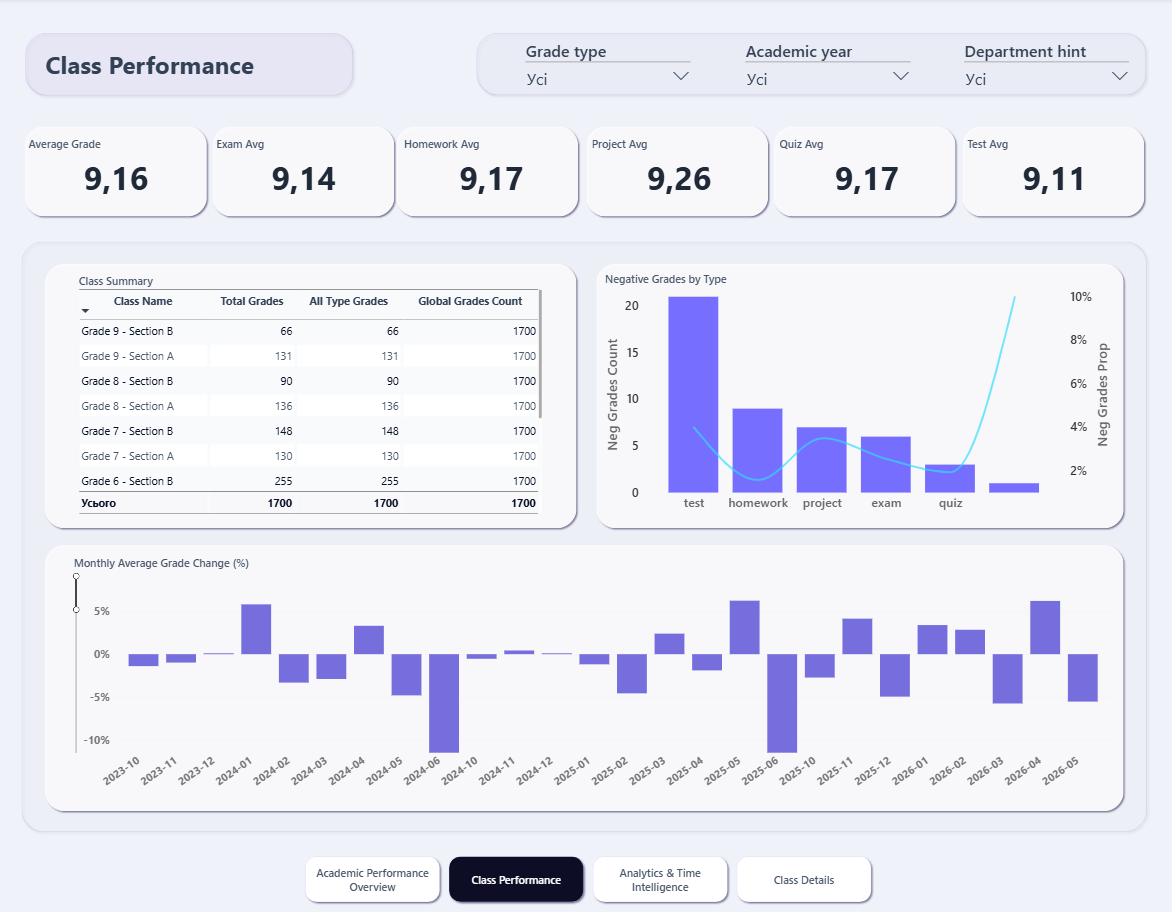

What the dashboard file says about the page in this screenshot:
{"tool":"powerbi","page":{"name":"Class Performance","canvas":[2925,2280],"ordinal":1},"visuals":[{"type":"shape","box":[1179.1,77.6,1680,172.9],"z":0,"group":"g2"},{"type":"group","id":"g1","title":"Група 1","box":[60,312.5,2792.3,240],"z":0,"group":"g3"},{"type":"shape","title":"Homework Average Grade","box":[60,312.5,467.3,240],"z":0,"group":"g1"},{"type":"shape","box":[49.6,595.8,2811.2,1483.2],"z":0},{"type":"shape","box":[59,77.6,831.6,173.8],"z":1000},{"type":"slicer","fields":{"Values":["grades.grade_type"]},"box":[1298.1,100,434.5,151],"z":1000,"group":"g2"},{"type":"cardVisual","fields":{"Data":["_Measures.Average Grade","_Measures.Exam Average Grade","_Measures.Homework Average Grade","_Measures.Project Average Grade","_Measures.Quiz Average Grade","_Measures.Test Average Grade"]},"box":[61.1,286.7,2798.9,270],"z":1000,"group":"g3"},{"type":"shape","title":"Homework Average Grade","box":[526.5,312.5,467.3,240],"z":1000,"group":"g1"},{"type":"group","id":"g2","title":"Група 3","box":[1179.1,77.6,1681.8,173.8],"z":2000},{"type":"slicer","fields":{"Values":["periods.academic_year"]},"box":[1842.7,100,434.5,151],"z":2000,"group":"g2"},{"type":"shape","title":"Homework Average Grade","box":[983,312.5,467.3,240],"z":2000,"group":"g1"},{"type":"slicer","fields":{"Values":["subjects.department_hint"]},"box":[2387.3,100,434.5,151],"z":3000,"group":"g2"},{"type":"group","id":"g3","title":"Група 2","box":[60,286.7,2800,270],"z":3000},{"type":"shape","title":"Homework Average Grade","box":[1452.8,312.5,467.3,240],"z":3000,"group":"g1"},{"type":"shape","title":"Homework Average Grade","box":[1919.3,312.5,467.3,240],"z":4000,"group":"g1"},{"type":"pageNavigator","box":[753.3,2123.3,1424,130],"z":4000},{"type":"shape","title":"Homework Average Grade","box":[2385.8,312.5,467.3,240],"z":5000,"group":"g1"},{"type":"group","id":"g4","title":"Група 4","box":[109.9,652.6,1335.1,672.5],"z":5000},{"type":"shape","title":"Homework Average Grade","box":[109.9,652.6,1335.1,672.5],"z":6000,"group":"g4"},{"type":"group","id":"g5","title":"Група 5","box":[1478.3,652.6,1325.1,672.5],"z":6000},{"type":"shape","title":"Homework Average Grade","box":[1478.3,652.6,1325.1,672.5],"z":7000,"group":"g5"},{"type":"group","id":"g6","title":"Група 6","box":[108.6,1349.8,2693.3,676.4],"z":7000},{"type":"shape","title":"Homework Average Grade","box":[108.6,1349.8,2693.3,676.4],"z":8000,"group":"g6"},{"type":"tableEx","title":"Class Summary","fields":{"Values":["classes.class_name","_Measures.Total Grades","_Measures.All Type Grades","_Measures.Global Grades Count"]},"box":[196.7,683.4,1160,603.3],"z":9000,"group":"g4"},{"type":"lineClusteredColumnComboChart","title":"Negative Grades by Type","fields":{"Y":["_Measures.Neg Grades Count"],"Category":["grades.grade_type"],"Y2":["_Measures.Neg Grades Prop"]},"box":[1503.4,680,1270,603.3],"z":10000,"group":"g5"},{"type":"clusteredColumnChart","title":"Monthly Average Grade Change (%)","fields":{"Category":["Calendar.Year-Month"],"Y":["_Measures.MoM_AG%"]},"box":[182.1,1384.9,2589.8,596.8],"z":11000,"group":"g6"}]}

Visuals, with their boxes in screenshot pixels (x1, y1, x2, y2), scaled from the page's 2925x2280 canvas onto the 1172x912 screenshot:
shape: 472,31,1146,100
"Група 1" group: 24,125,1143,221
"Homework Average Grade" shape: 24,125,211,221
shape: 20,238,1146,832
shape: 24,31,357,101
slicer - grades.grade_type: 520,40,694,100
cardVisual - _Measures.Average Grade x _Measures.Exam Average Grade: 24,115,1146,223
"Homework Average Grade" shape: 211,125,398,221
"Група 3" group: 472,31,1146,101
slicer - periods.academic_year: 738,40,912,100
"Homework Average Grade" shape: 394,125,581,221
slicer - subjects.department_hint: 957,40,1131,100
"Група 2" group: 24,115,1146,223
"Homework Average Grade" shape: 582,125,769,221
"Homework Average Grade" shape: 769,125,956,221
pageNavigator: 302,849,872,901
"Homework Average Grade" shape: 956,125,1143,221
"Група 4" group: 44,261,579,530
"Homework Average Grade" shape: 44,261,579,530
"Група 5" group: 592,261,1123,530
"Homework Average Grade" shape: 592,261,1123,530
"Група 6" group: 44,540,1123,810
"Homework Average Grade" shape: 44,540,1123,810
"Class Summary" tableEx: 79,273,544,515
"Negative Grades by Type" lineClusteredColumnComboChart: 602,272,1111,513
"Monthly Average Grade Change (%)" clusteredColumnChart: 73,554,1111,793
